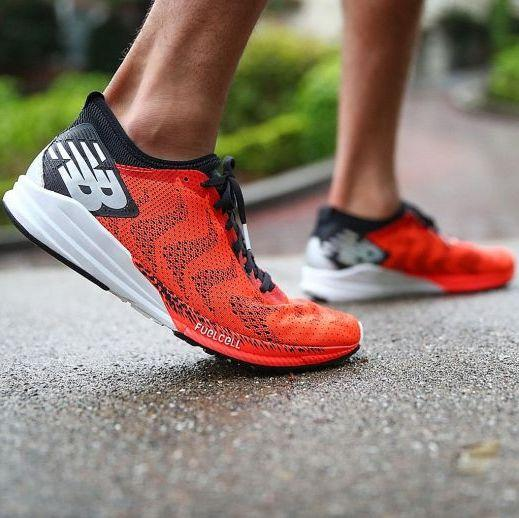NB logo: (39, 129, 139, 226), (316, 216, 394, 281)
